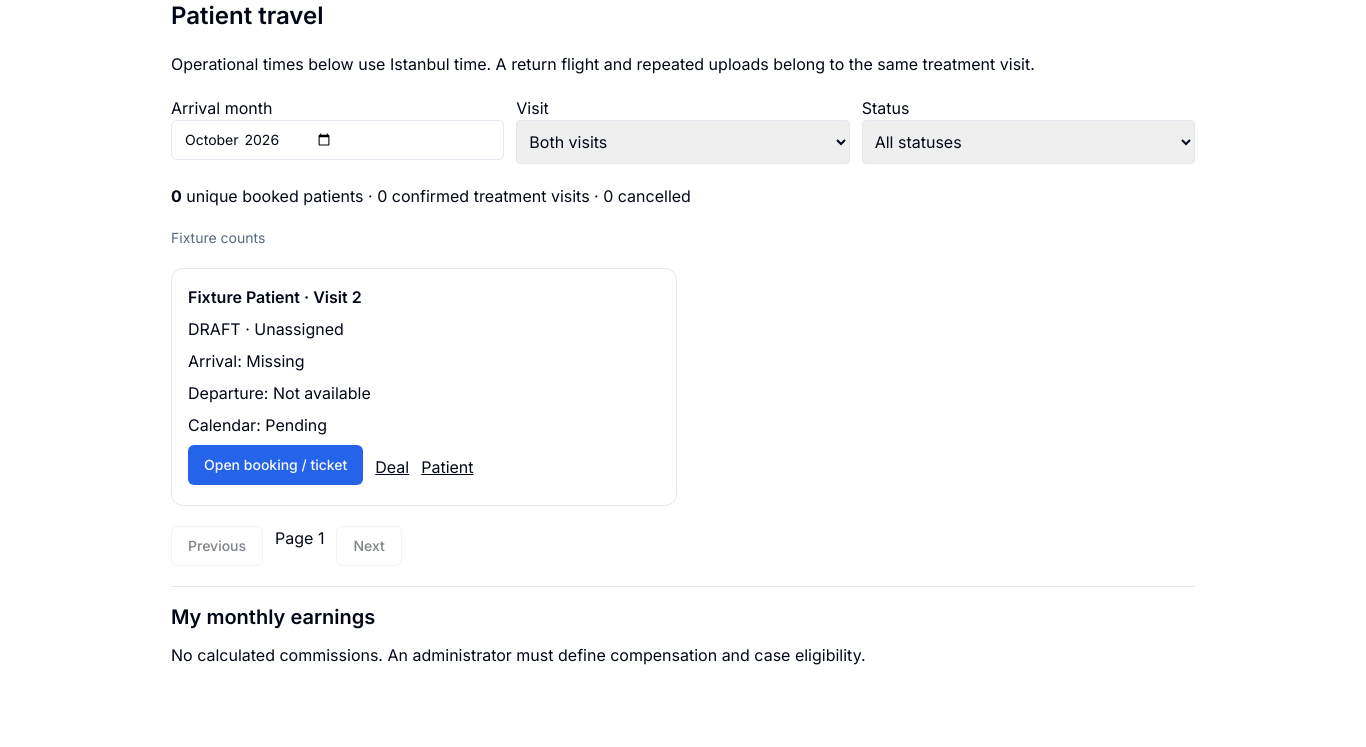
opens the monthly booking with its existing treatment plans and reports retry failures
The width and height of the screenshot is (1366, 747).
Click the button "Open booking / ticket" at [276, 465], box left=188, top=445, right=363, bottom=485
(page scrolled)
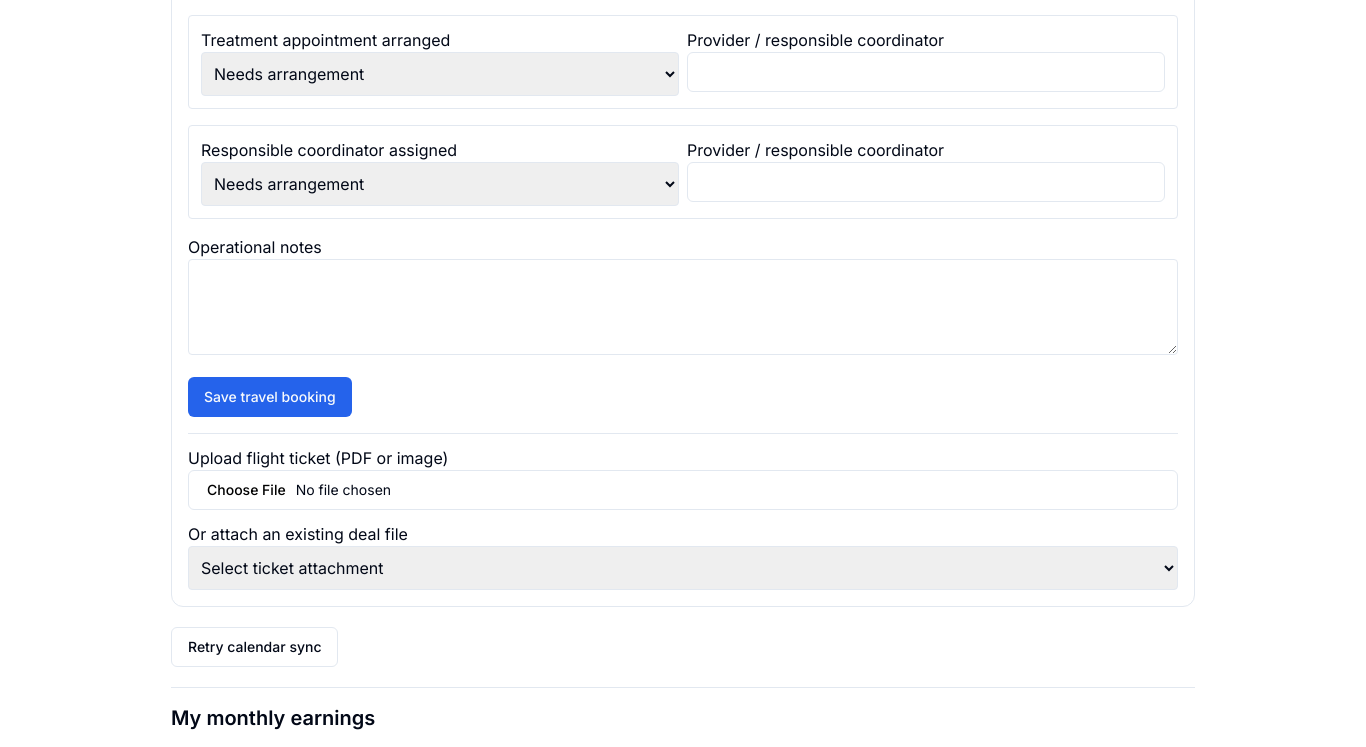
Click the button "Retry calendar sync" at [255, 647], box left=171, top=627, right=338, bottom=667
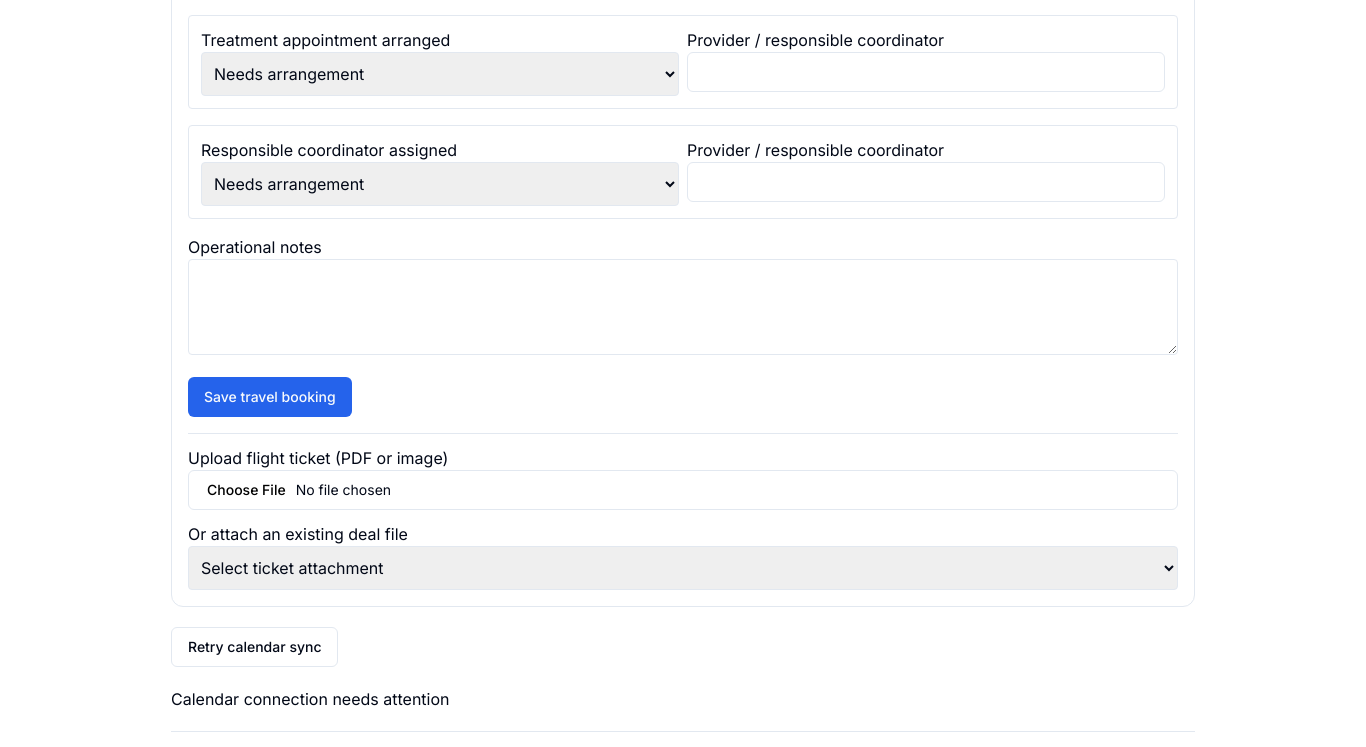
Expected: the button "Retry calendar sync" is enabled, left=171, top=627, right=338, bottom=667
Expected: the message reads "Calendar connection needs attention", left=171, top=689, right=450, bottom=709
